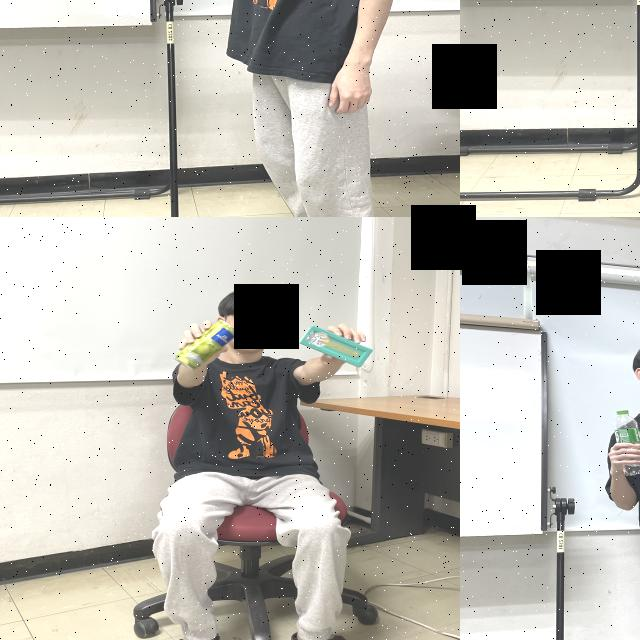bottle: (612, 409, 640, 477)
can: (174, 320, 240, 370)
